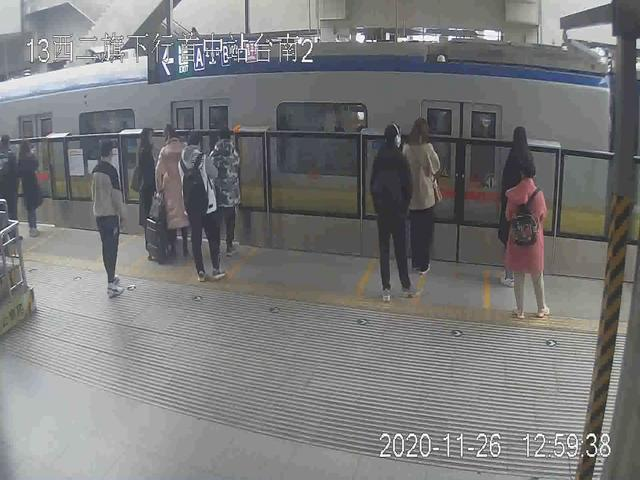person: (504, 161, 553, 324), (371, 120, 414, 300), (402, 113, 442, 279), (182, 133, 224, 280), (498, 124, 536, 286), (90, 140, 127, 293), (155, 124, 193, 257), (130, 129, 169, 255), (210, 129, 241, 255), (15, 142, 46, 237)
